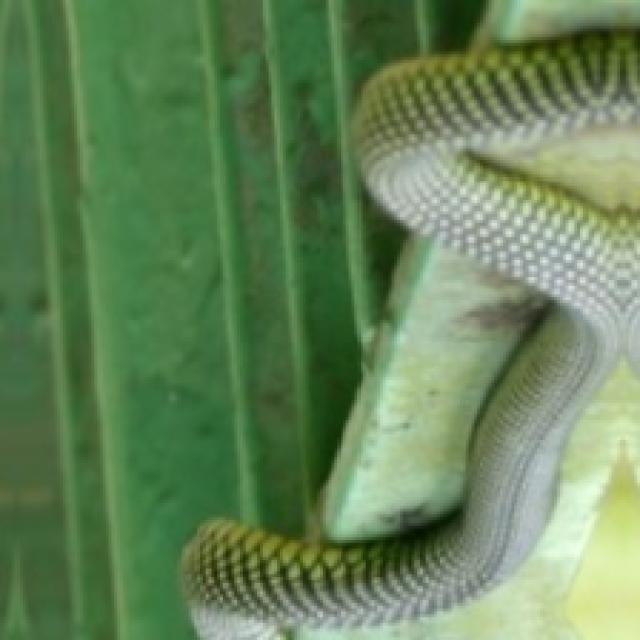paradise tree snake: (183, 3, 637, 637)
